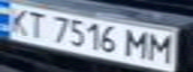1: (81, 20, 103, 52)
5: (66, 17, 87, 48)
6: (100, 24, 121, 55)
7: (45, 14, 72, 45)
K: (0, 4, 33, 36)
M: (121, 28, 154, 61), (145, 30, 178, 63)
T: (21, 9, 51, 39)
